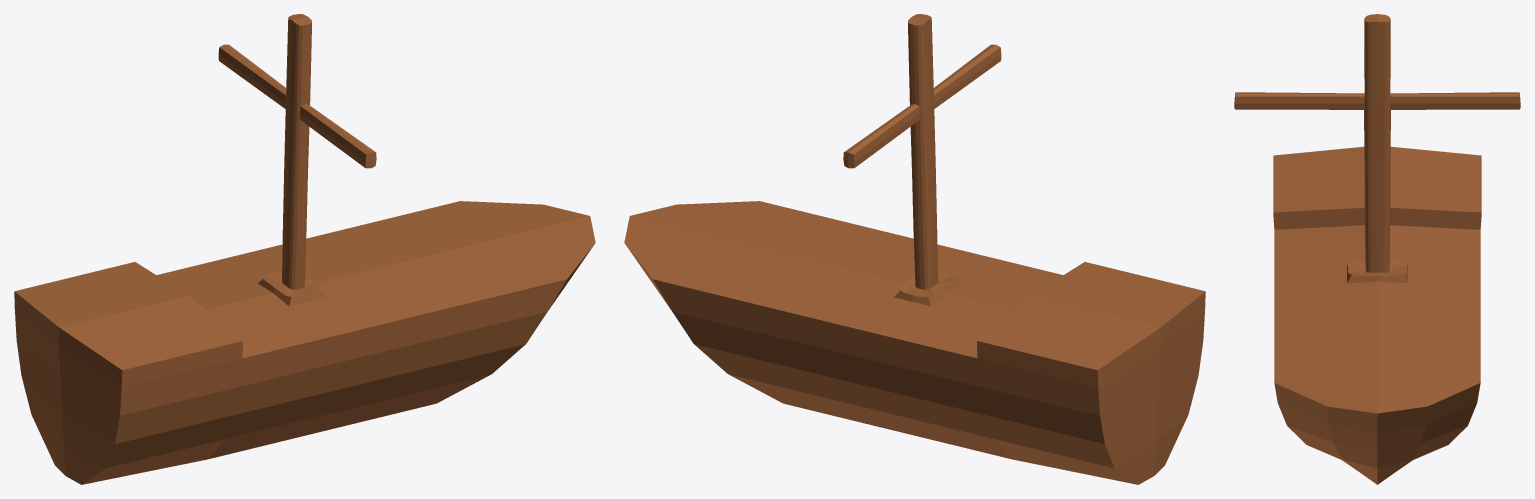
Rendered from boat2.obj.
3 views of the same model, side by side, from view 1: azimuth 30°, elevation 25°; view 2: azimuth 150°, elevation 25°; view 3: azimuth 270°, elevation 25° (orthographic). The views are drawn at different scales.
Parts seen in each view (by area): view 1: Cube; view 2: Cube; view 3: Cube.
Part boxes in pixels (x1=…): Cube: x1=14, y1=14, x2=595, y2=484; Cube: x1=624, y1=14, x2=1205, y2=484; Cube: x1=1234, y1=14, x2=1520, y2=484.
Size of the model in its own units: 15.29 by 11.01 by 7.4.
